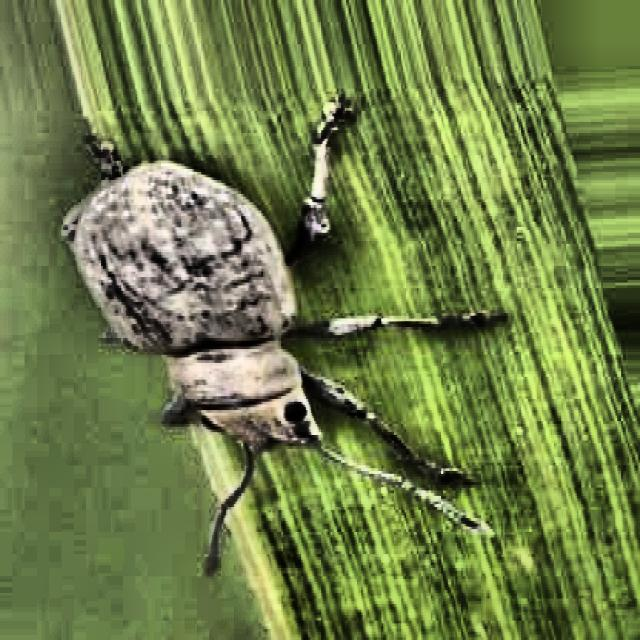Stink bug: (36, 84, 432, 564)
